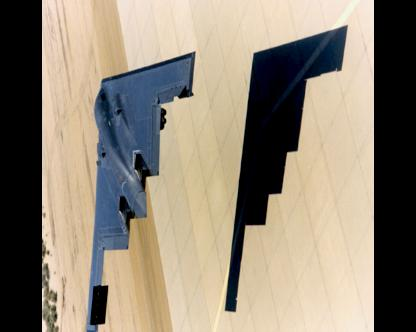B1: (86, 50, 197, 329)
